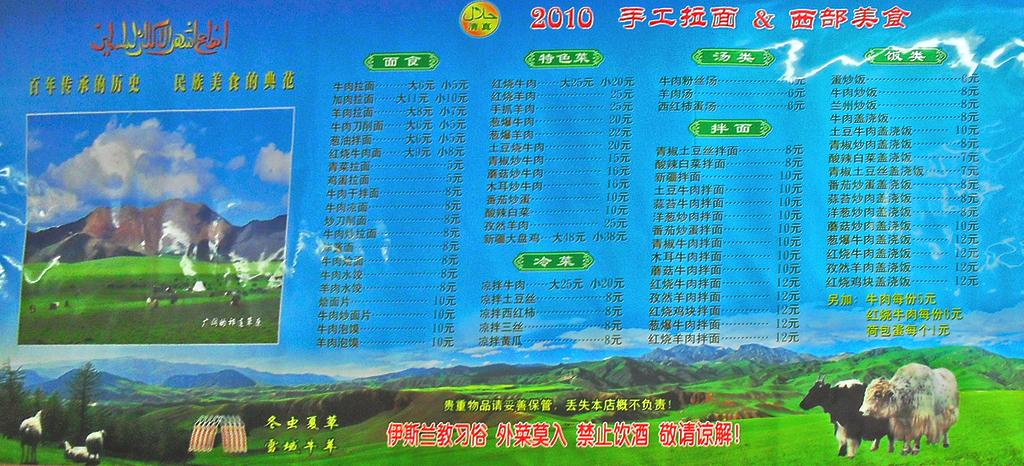Sheep: (10, 406, 48, 462), (56, 436, 96, 464), (78, 427, 106, 457)
